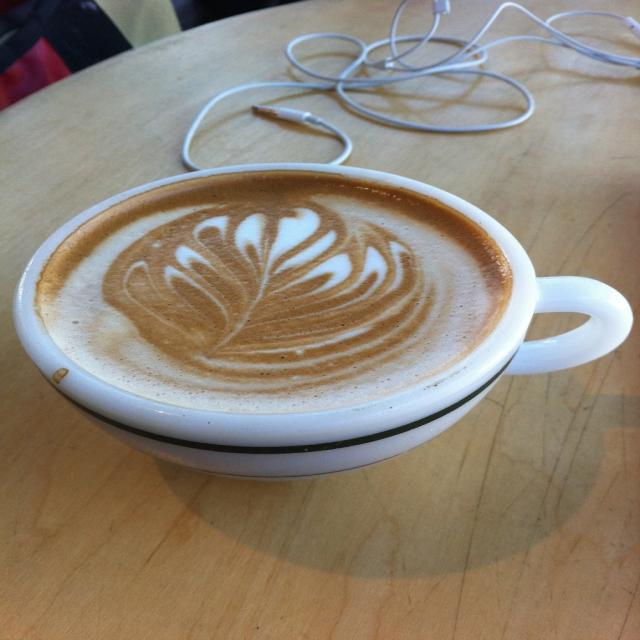latte: (15, 162, 536, 410)
